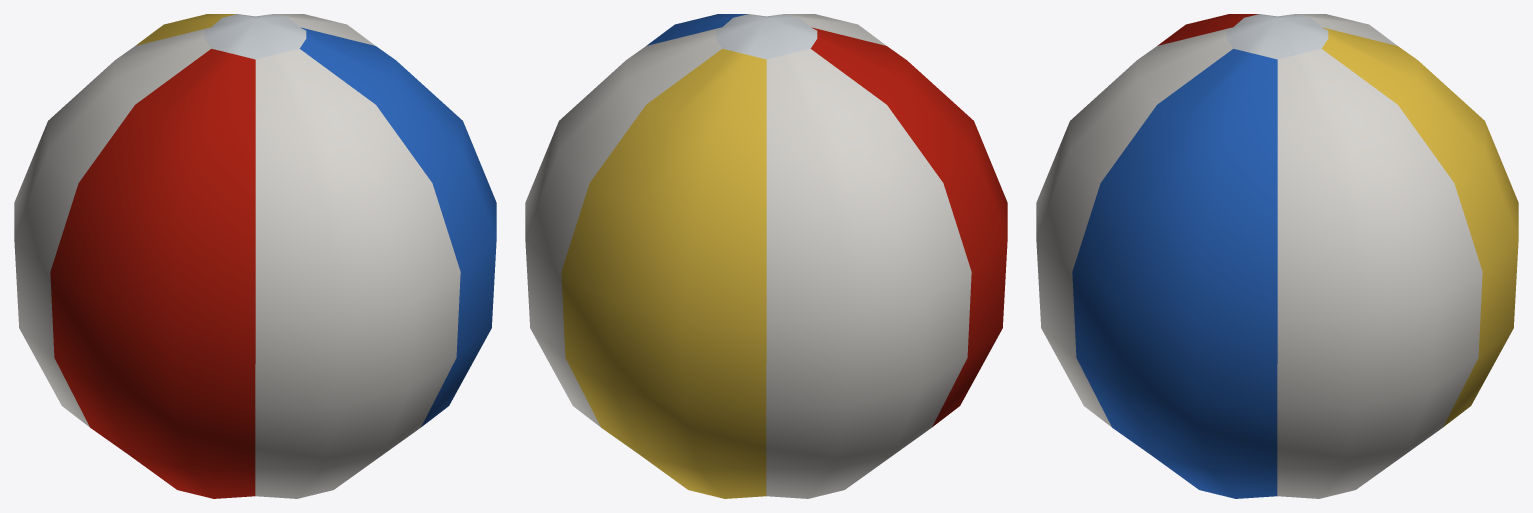
File: beach-ball.glb
3 renders of one model, left to right at view 1: azimuth 30°, elevation 25°; view 2: azimuth 150°, elevation 25°; view 3: azimuth 270°, elevation 25°, orthographic.
Parts seen in each view (by area): view 1: beach-ball; view 2: beach-ball; view 3: beach-ball.
Part boxes in pixels (box(x1,y1,x2,y2)): beach-ball: box(14, 14, 496, 498); beach-ball: box(525, 14, 1007, 498); beach-ball: box(1036, 14, 1518, 498).
Size of the model in its own units: 1.91 by 2.05 by 1.94.
